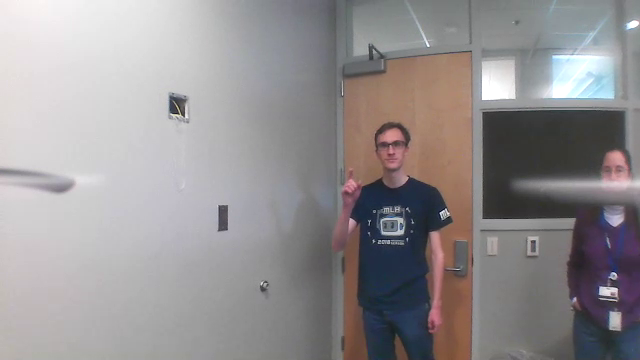up: (338, 164, 369, 205)
